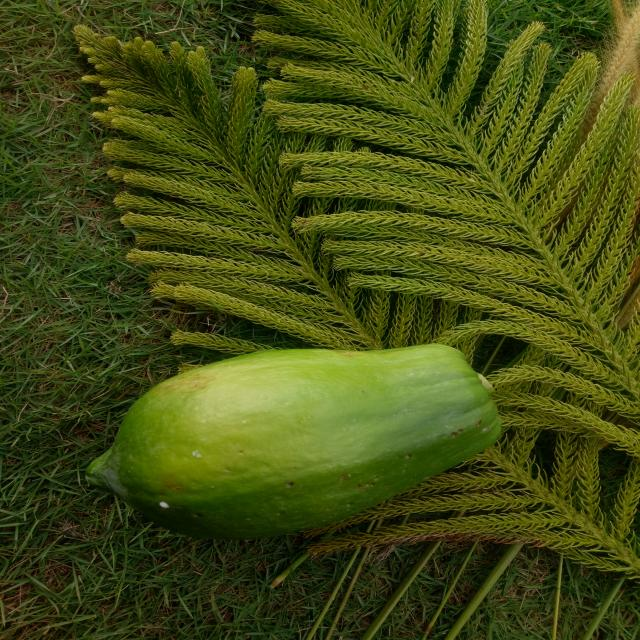Pepaya unrippen: (70, 326, 498, 549)
